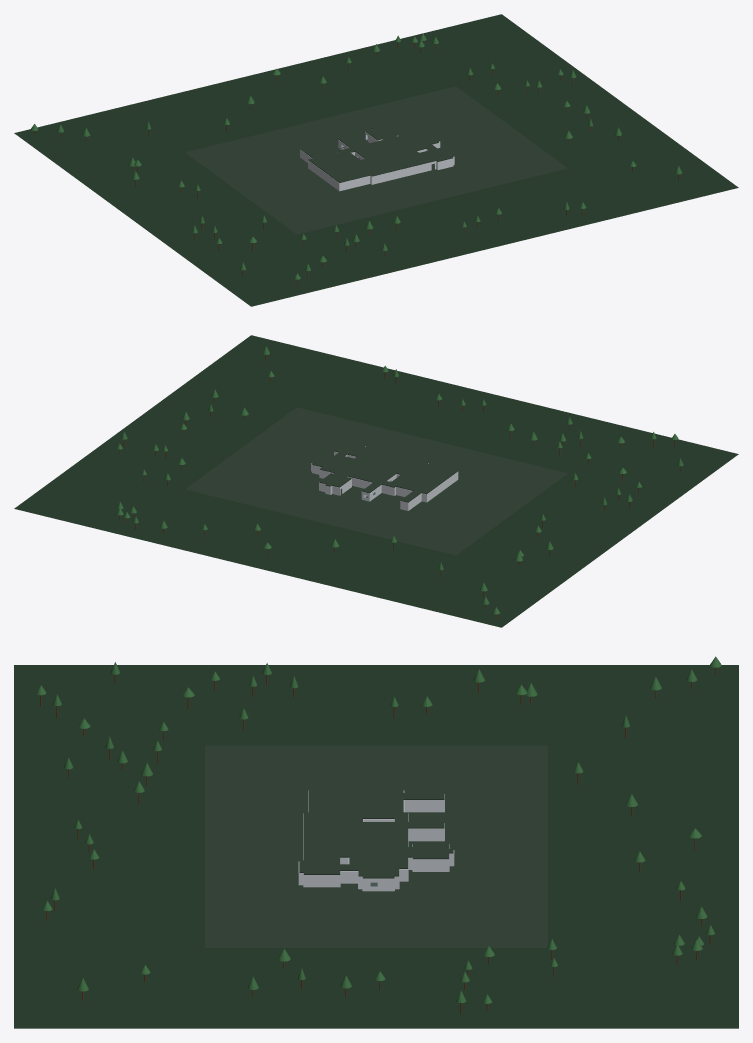
Rendered from level-office.glb.
3 renders of one model, top to bottom at view 1: azimuth 30°, elevation 25°; view 2: azimuth 150°, elevation 25°; view 3: azimuth 270°, elevation 25°, orthographic. The views are drawn at different scales.
Parts seen in each view (by area): view 1: svg-stage; view 2: svg-stage; view 3: svg-stage.
Part boxes in pixels (box(x1,y1,x2,y2)): svg-stage: box(14, 14, 738, 306); svg-stage: box(14, 335, 738, 627); svg-stage: box(14, 656, 738, 1028).
Size of the model in its own units: 189 by 5.85 by 160.
